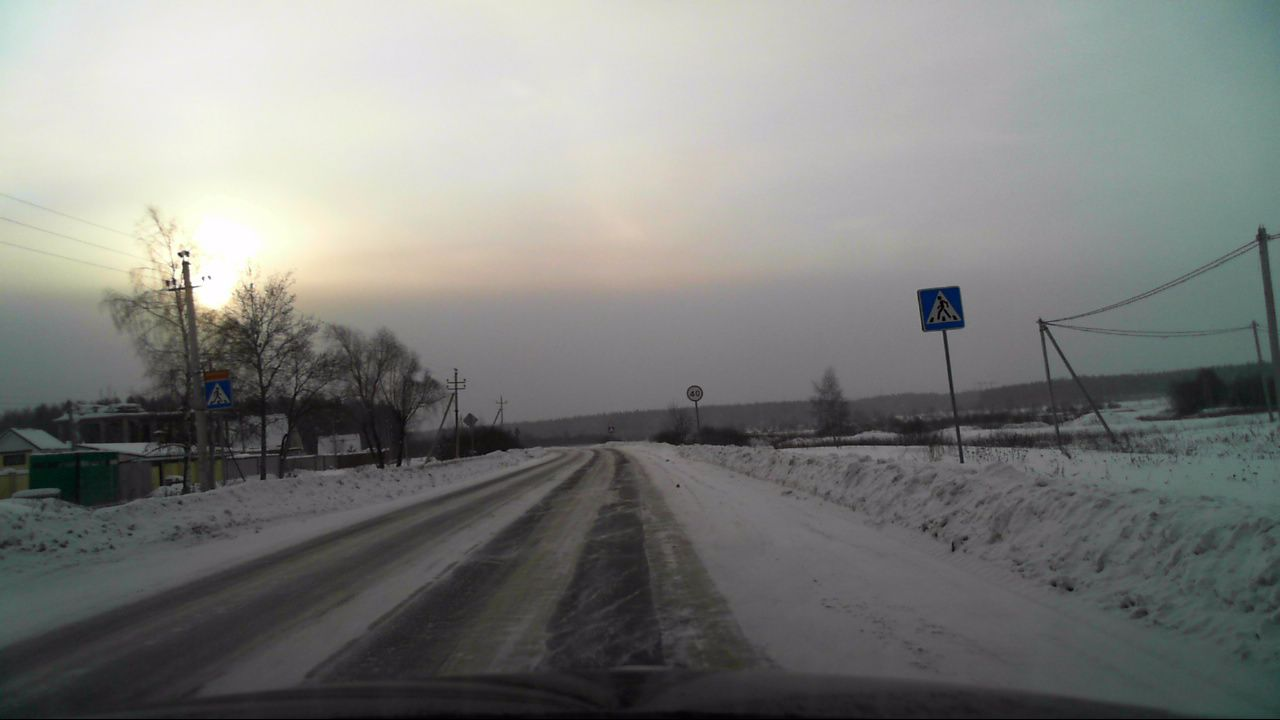speed_warning_40: (686, 385, 704, 402)
